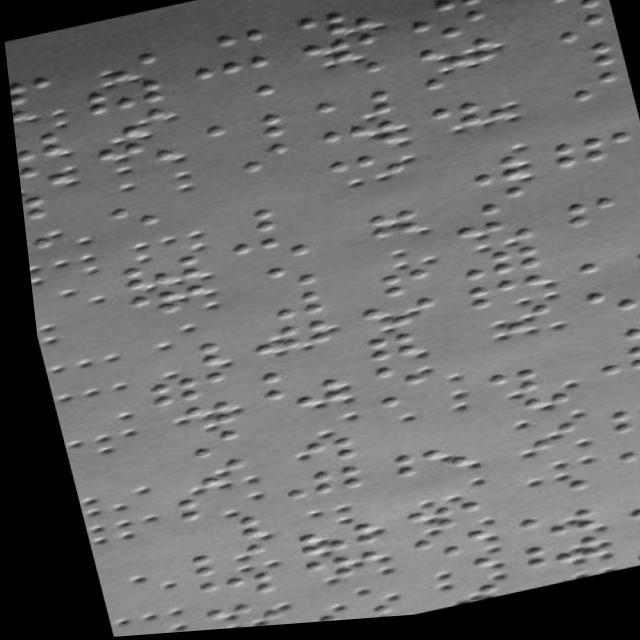braiile: (204, 141, 295, 185), (536, 76, 626, 120), (219, 231, 311, 274), (200, 113, 290, 156), (528, 47, 616, 90), (520, 19, 610, 61), (77, 79, 167, 121), (188, 56, 276, 98), (428, 162, 516, 203), (434, 191, 524, 231), (112, 254, 202, 294), (290, 9, 381, 48), (455, 279, 543, 319), (238, 290, 323, 331), (560, 257, 640, 300), (406, 14, 495, 52), (179, 570, 264, 609), (146, 431, 233, 469), (421, 101, 504, 140), (235, 263, 318, 302), (186, 30, 270, 68), (319, 154, 399, 193), (347, 272, 427, 311), (137, 342, 217, 381), (312, 92, 394, 130), (397, 532, 477, 570), (511, 0, 601, 33), (173, 516, 255, 552), (507, 483, 584, 520), (204, 84, 281, 121), (577, 315, 640, 359), (308, 65, 385, 101), (403, 0, 490, 27), (7, 74, 60, 114), (12, 130, 64, 167), (609, 475, 640, 518), (618, 547, 640, 575), (508, 0, 598, 6)
